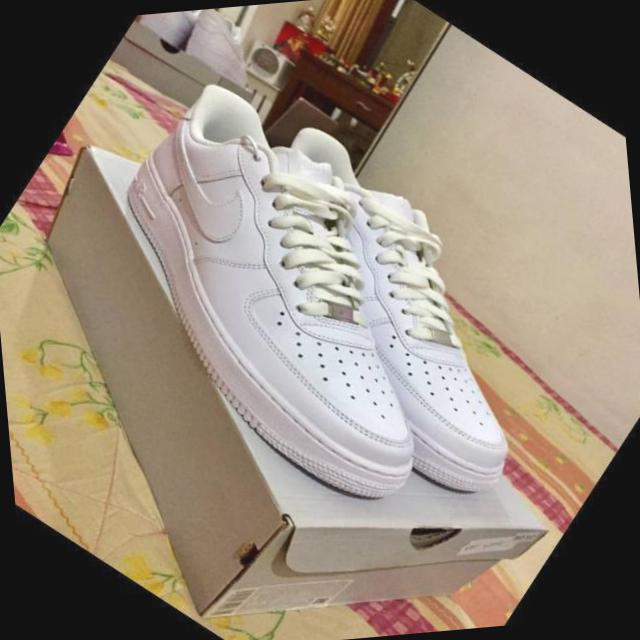nike_original_airforce: (9, 29, 552, 551), (159, 91, 628, 539)
